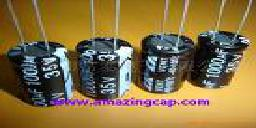Electrolytic-capacitor: (76, 1, 136, 100), (194, 1, 252, 97), (140, 1, 192, 103), (8, 34, 75, 111)
